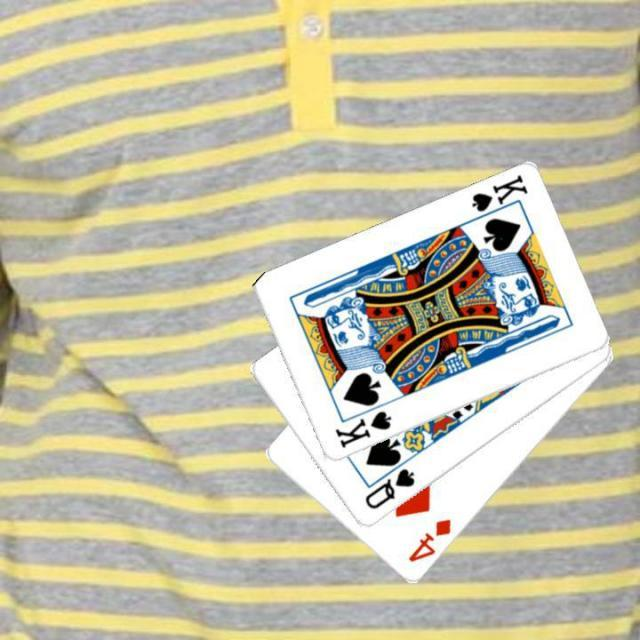4D: (404, 514, 454, 566)
KS: (466, 172, 530, 224), (331, 408, 394, 450)
QS: (360, 465, 417, 512)
